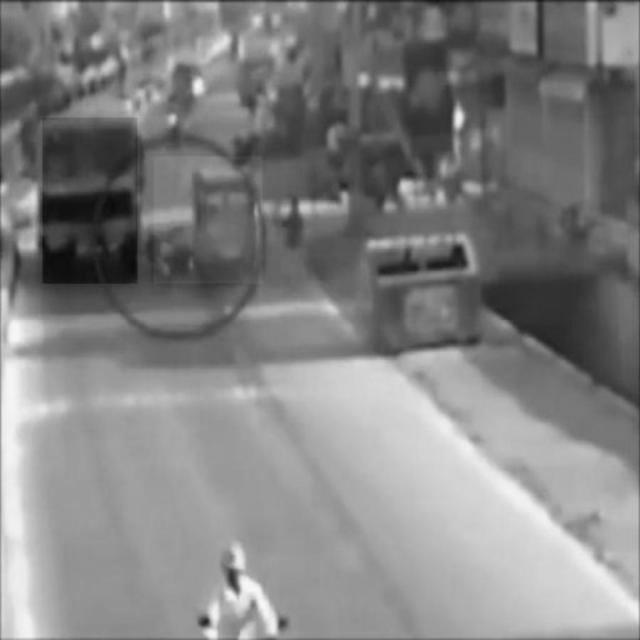accident: (155, 156, 263, 284)
person: (280, 197, 307, 288)
vehicle: (43, 118, 139, 284)
